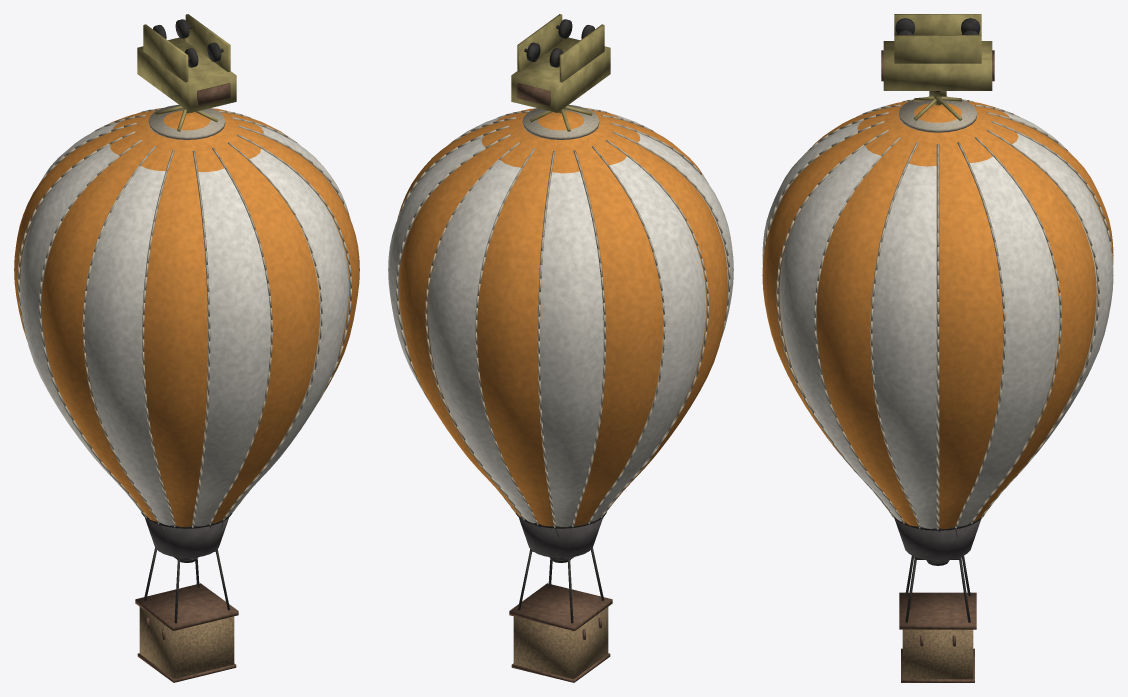
Rendered from BalloonRail_Orange.fbx.
The picture shows the model from 3 angles, left to right: view 1: azimuth 30°, elevation 25°; view 2: azimuth 150°, elevation 25°; view 3: azimuth 270°, elevation 25°; orthographic projection. The views are drawn at different scales.
Parts seen in each view (by area): view 1: Swing_S_Envelope_Orange, Swing_S_EnvelopeStripe_Orange, Swing_S_Rope, Static_S_Bogie, Swing_S_Wicker, Swing_S_Leather, Swing_S_SkirtDark, Swing_S_SteelWorn, Static_S_SteelWorn, Static_S_Leather; view 2: Swing_S_Envelope_Orange, Swing_S_EnvelopeStripe_Orange, Swing_S_Rope, Static_S_Bogie, Swing_S_Wicker, Swing_S_Leather, Swing_S_SkirtDark, Swing_S_SteelWorn, Static_S_SteelWorn, Static_S_Leather; view 3: Swing_S_Envelope_Orange, Swing_S_EnvelopeStripe_Orange, Swing_S_Rope, Static_S_Bogie, Swing_S_Wicker, Swing_S_Leather, Swing_S_SkirtDark, Swing_S_SteelWorn, Static_S_SteelWorn.
Part boxes in pixels (bbox=[...]): Swing_S_Envelope_Orange: bbox=[14, 108, 359, 527]; Swing_S_EnvelopeStripe_Orange: bbox=[20, 111, 350, 526]; Swing_S_Rope: bbox=[17, 104, 351, 527]; Static_S_Bogie: bbox=[137, 14, 236, 112]; Swing_S_Wicker: bbox=[139, 607, 234, 678]; Swing_S_Leather: bbox=[135, 583, 238, 682]; Swing_S_SkirtDark: bbox=[145, 518, 228, 557]; Swing_S_SteelWorn: bbox=[141, 512, 231, 623]; Static_S_SteelWorn: bbox=[153, 19, 223, 67]; Static_S_Leather: bbox=[197, 83, 230, 105]; Swing_S_Envelope_Orange: bbox=[397, 108, 727, 526]; Swing_S_EnvelopeStripe_Orange: bbox=[388, 113, 733, 527]; Swing_S_Rope: bbox=[396, 104, 730, 527]; Static_S_Bogie: bbox=[511, 14, 610, 112]; Swing_S_Wicker: bbox=[513, 607, 608, 678]; Swing_S_Leather: bbox=[509, 583, 612, 682]; Swing_S_SkirtDark: bbox=[519, 518, 602, 557]; Swing_S_SteelWorn: bbox=[516, 512, 606, 623]; Static_S_SteelWorn: bbox=[524, 19, 594, 67]; Static_S_Leather: bbox=[517, 83, 550, 105]; Swing_S_Envelope_Orange: bbox=[762, 101, 1113, 528]; Swing_S_EnvelopeStripe_Orange: bbox=[762, 103, 1113, 528]; Swing_S_Rope: bbox=[763, 96, 1112, 529]; Static_S_Bogie: bbox=[883, 14, 992, 96]; Swing_S_Wicker: bbox=[902, 629, 973, 679]; Swing_S_Leather: bbox=[899, 592, 976, 682]; Swing_S_SkirtDark: bbox=[894, 519, 981, 560]; Swing_S_SteelWorn: bbox=[891, 515, 984, 622]; Static_S_SteelWorn: bbox=[895, 18, 980, 92].
Bounding box in the file's own units: 6.45 × 13.03 × 6.45.
